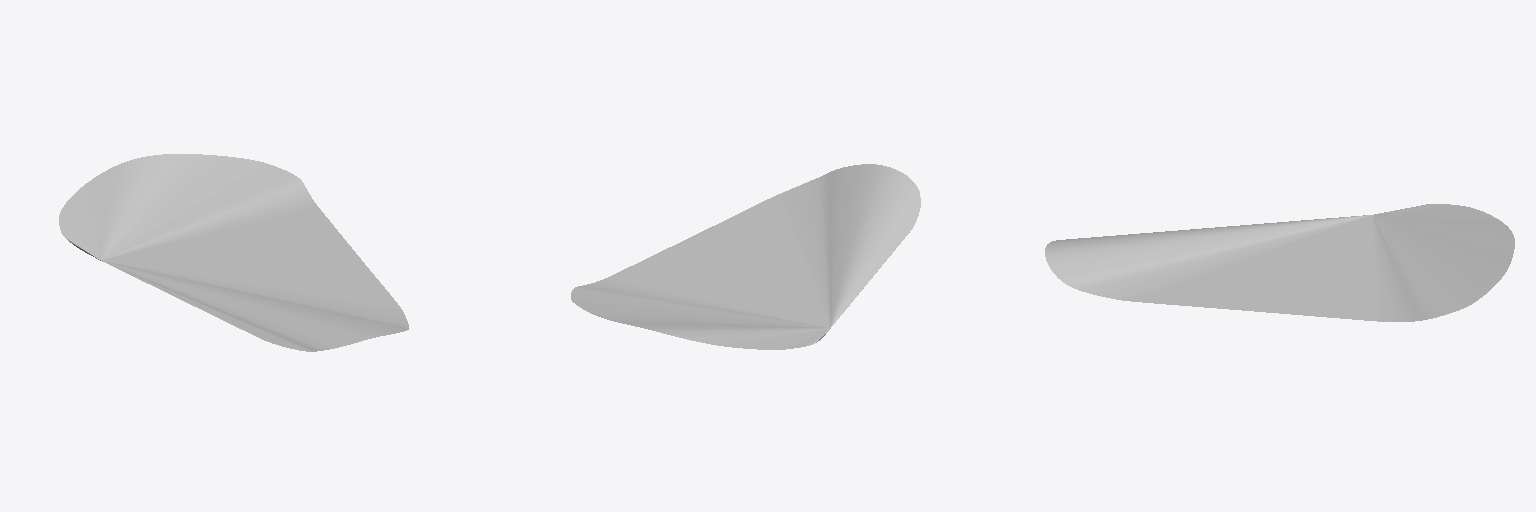
File: AI_waypoints_9.obj
3 renders of one model, left to right at view 1: azimuth 30°, elevation 25°; view 2: azimuth 150°, elevation 25°; view 3: azimuth 270°, elevation 25°, orthographic.
Visible parts, largest first — view 1: Waypoints9_Waypoints1.009; view 2: Waypoints9_Waypoints1.009; view 3: Waypoints9_Waypoints1.009.
Part boxes in pixels (x1,y1,x2,y2): Waypoints9_Waypoints1.009: (59, 154, 408, 351); Waypoints9_Waypoints1.009: (571, 164, 920, 349); Waypoints9_Waypoints1.009: (1045, 204, 1514, 321).
Bounding box in the file's own units: 197 × 19.04 × 340.